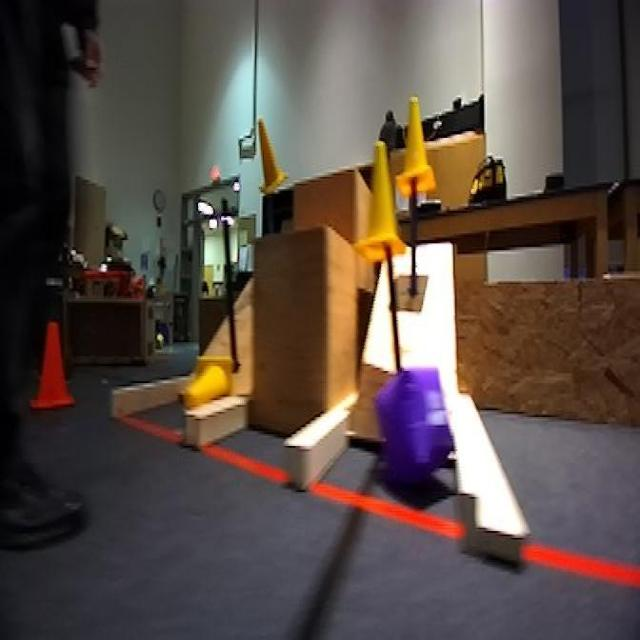frc_cone: (348, 127, 404, 266), (394, 94, 436, 199), (177, 354, 236, 415), (255, 118, 290, 192)
frc_cube: (384, 362, 459, 504)
